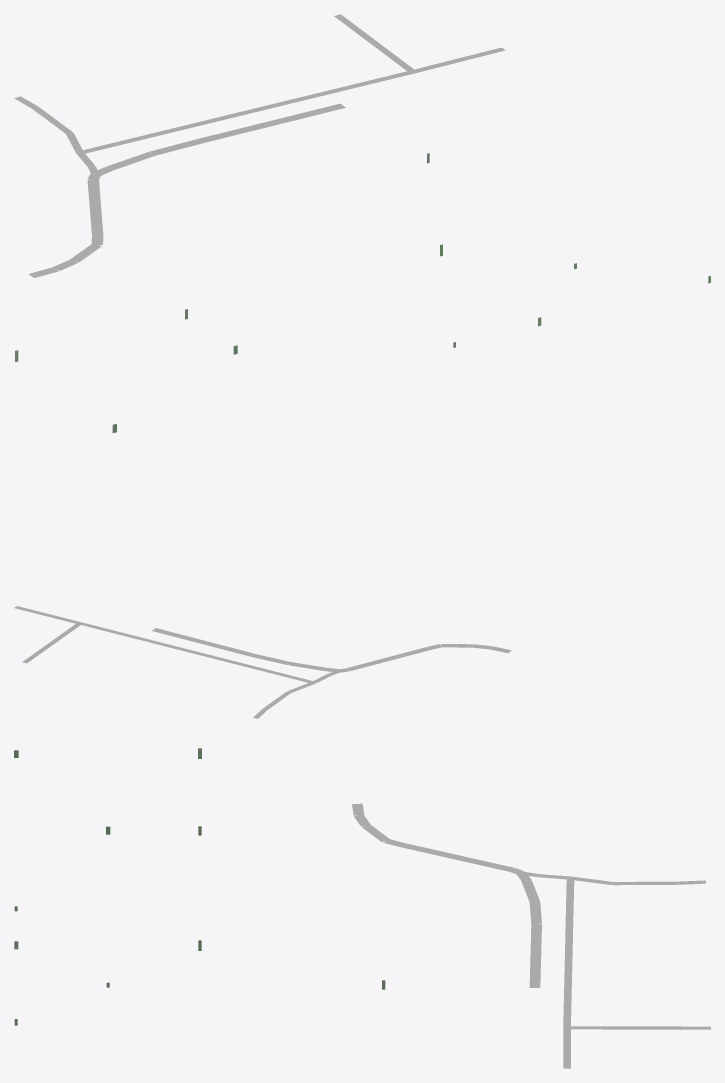
The picture shows the model from 3 angles, top to bottom: view 1: azimuth 30°, elevation 25°; view 2: azimuth 150°, elevation 25°; view 3: azimuth 270°, elevation 25°; orthographic projection. The views are drawn at different scales.
Size of the model in its own units: 484 by 9.13 by 455.
